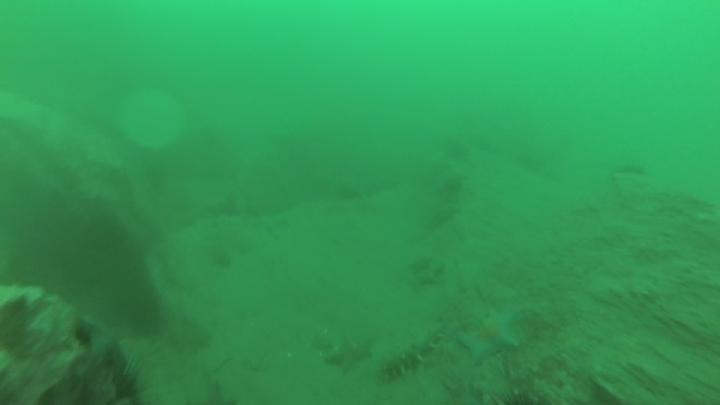holothurian: (384, 322, 441, 380)
starfish: (458, 310, 522, 365), (80, 313, 129, 372), (324, 334, 373, 374)
